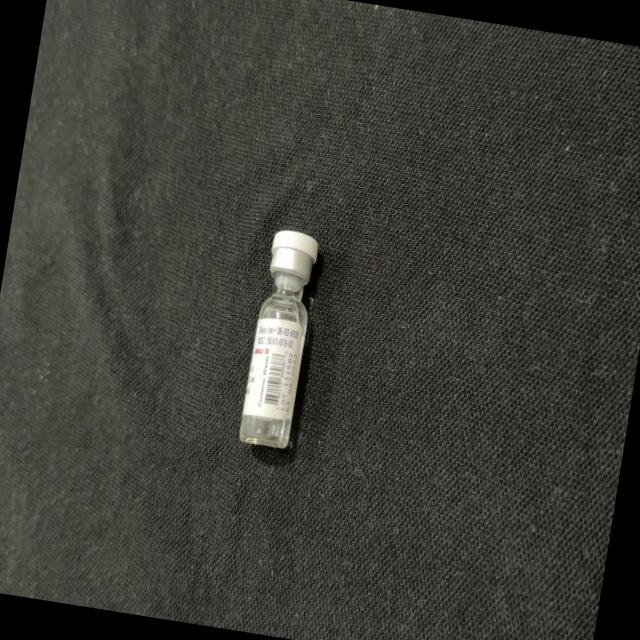fentanl_citrat: (240, 232, 320, 446)
